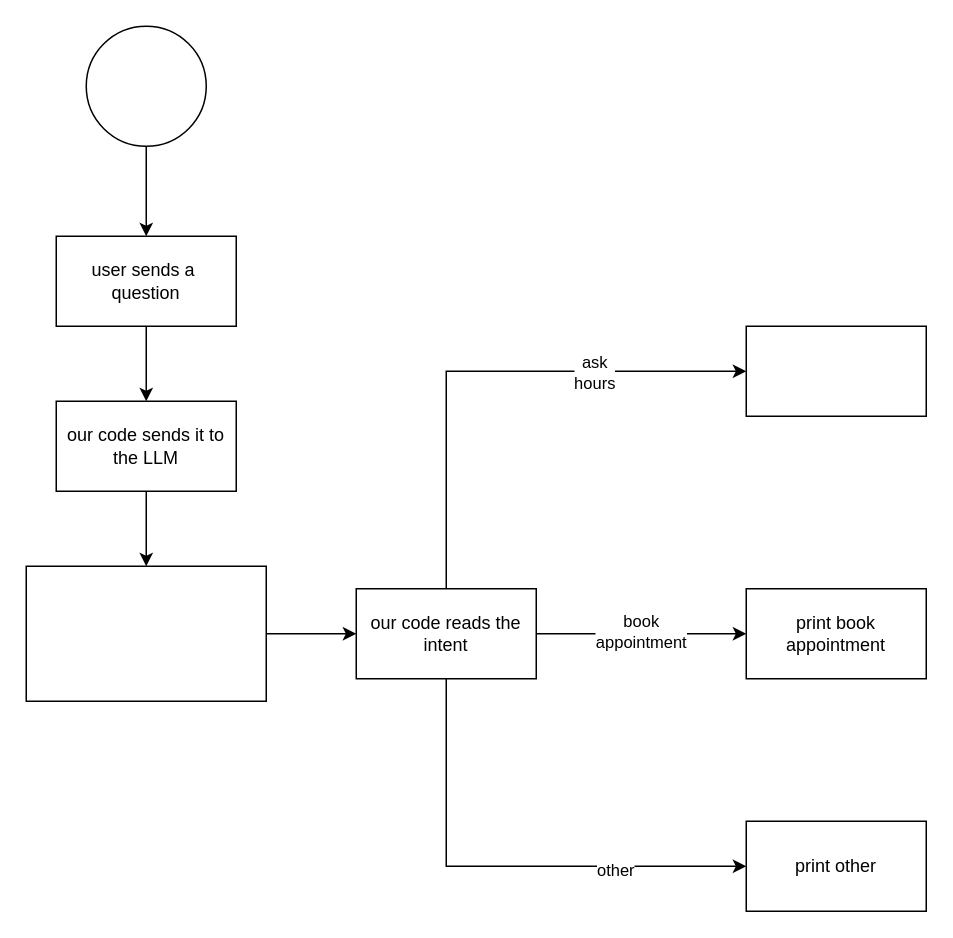
This 953x938 diagram has some shape labels left out. The centre of each missing label's shape, as x and y in pixels:
LLM identifies the user intent and responds back with a structured response: the point at 145,633
print ask hours: the point at 835,370
Start: the point at 145,85
